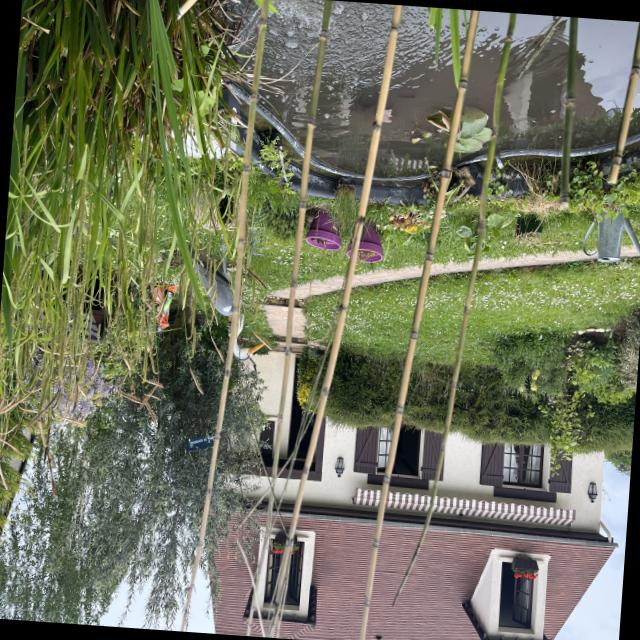Heron: (175, 198, 279, 370)
